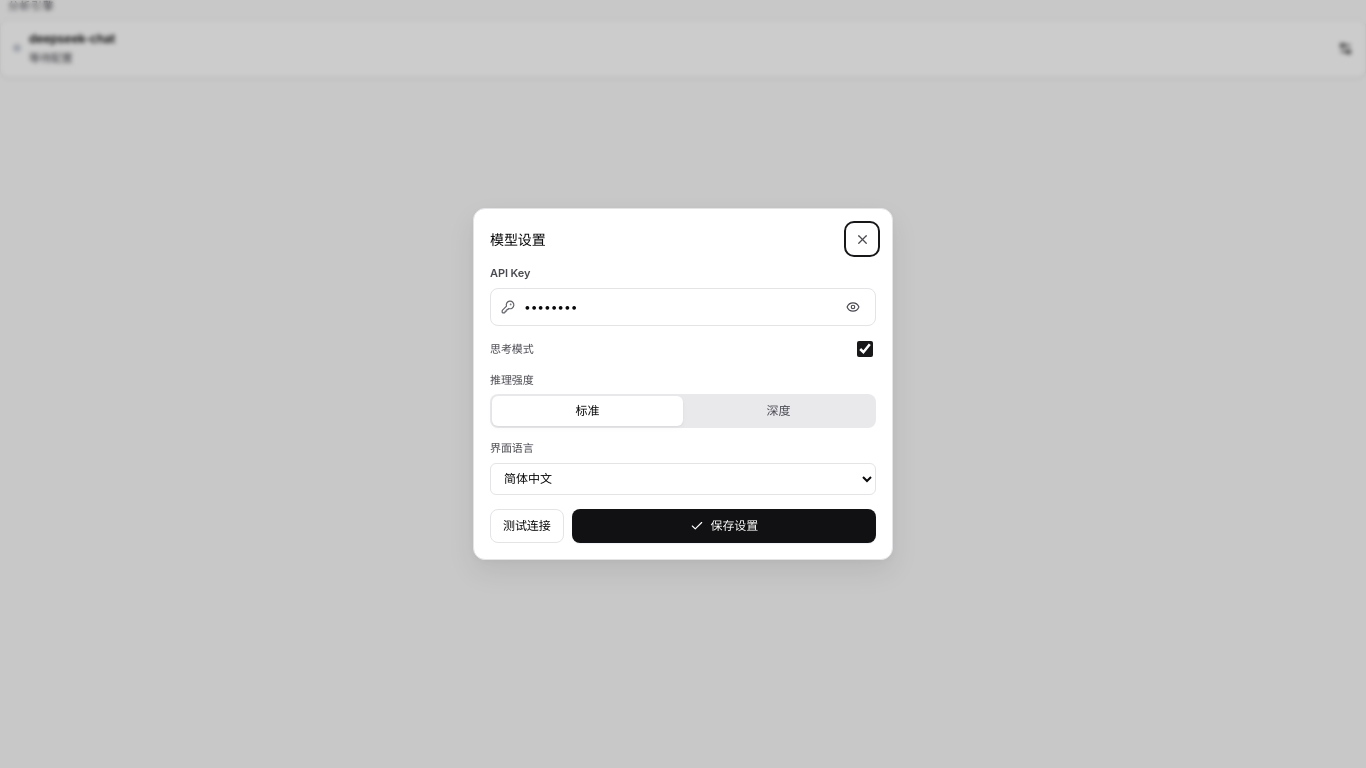
Scenario: SettingsPanel › 连接测试失败时展示失败原因
The width and height of the screenshot is (1366, 768).
Click the button "测试连接" at (527, 526), box top-left (490, 509), bottom-right (564, 543)
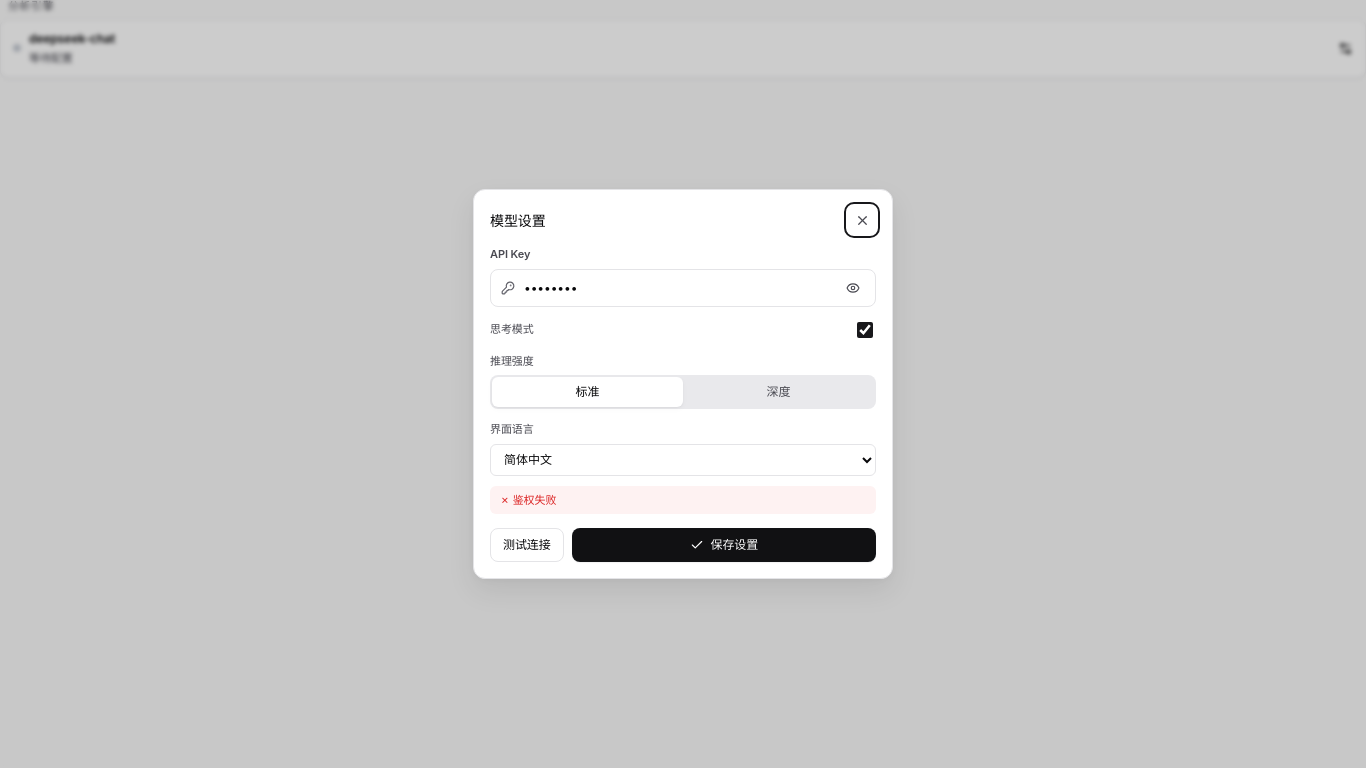
Expected: the message shows "鉴权失败", top-left (513, 492), bottom-right (556, 506)
Expected: the message shows "✗", top-left (500, 492), bottom-right (513, 506)
